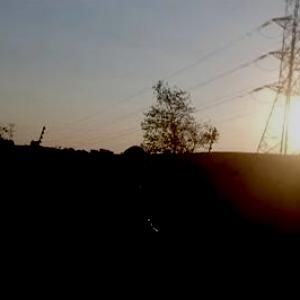follow: (91, 142, 167, 299)
